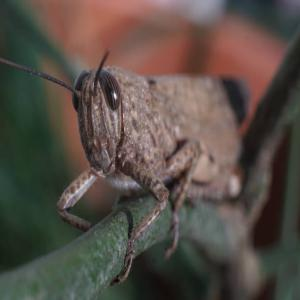locust: (37, 31, 252, 257)
